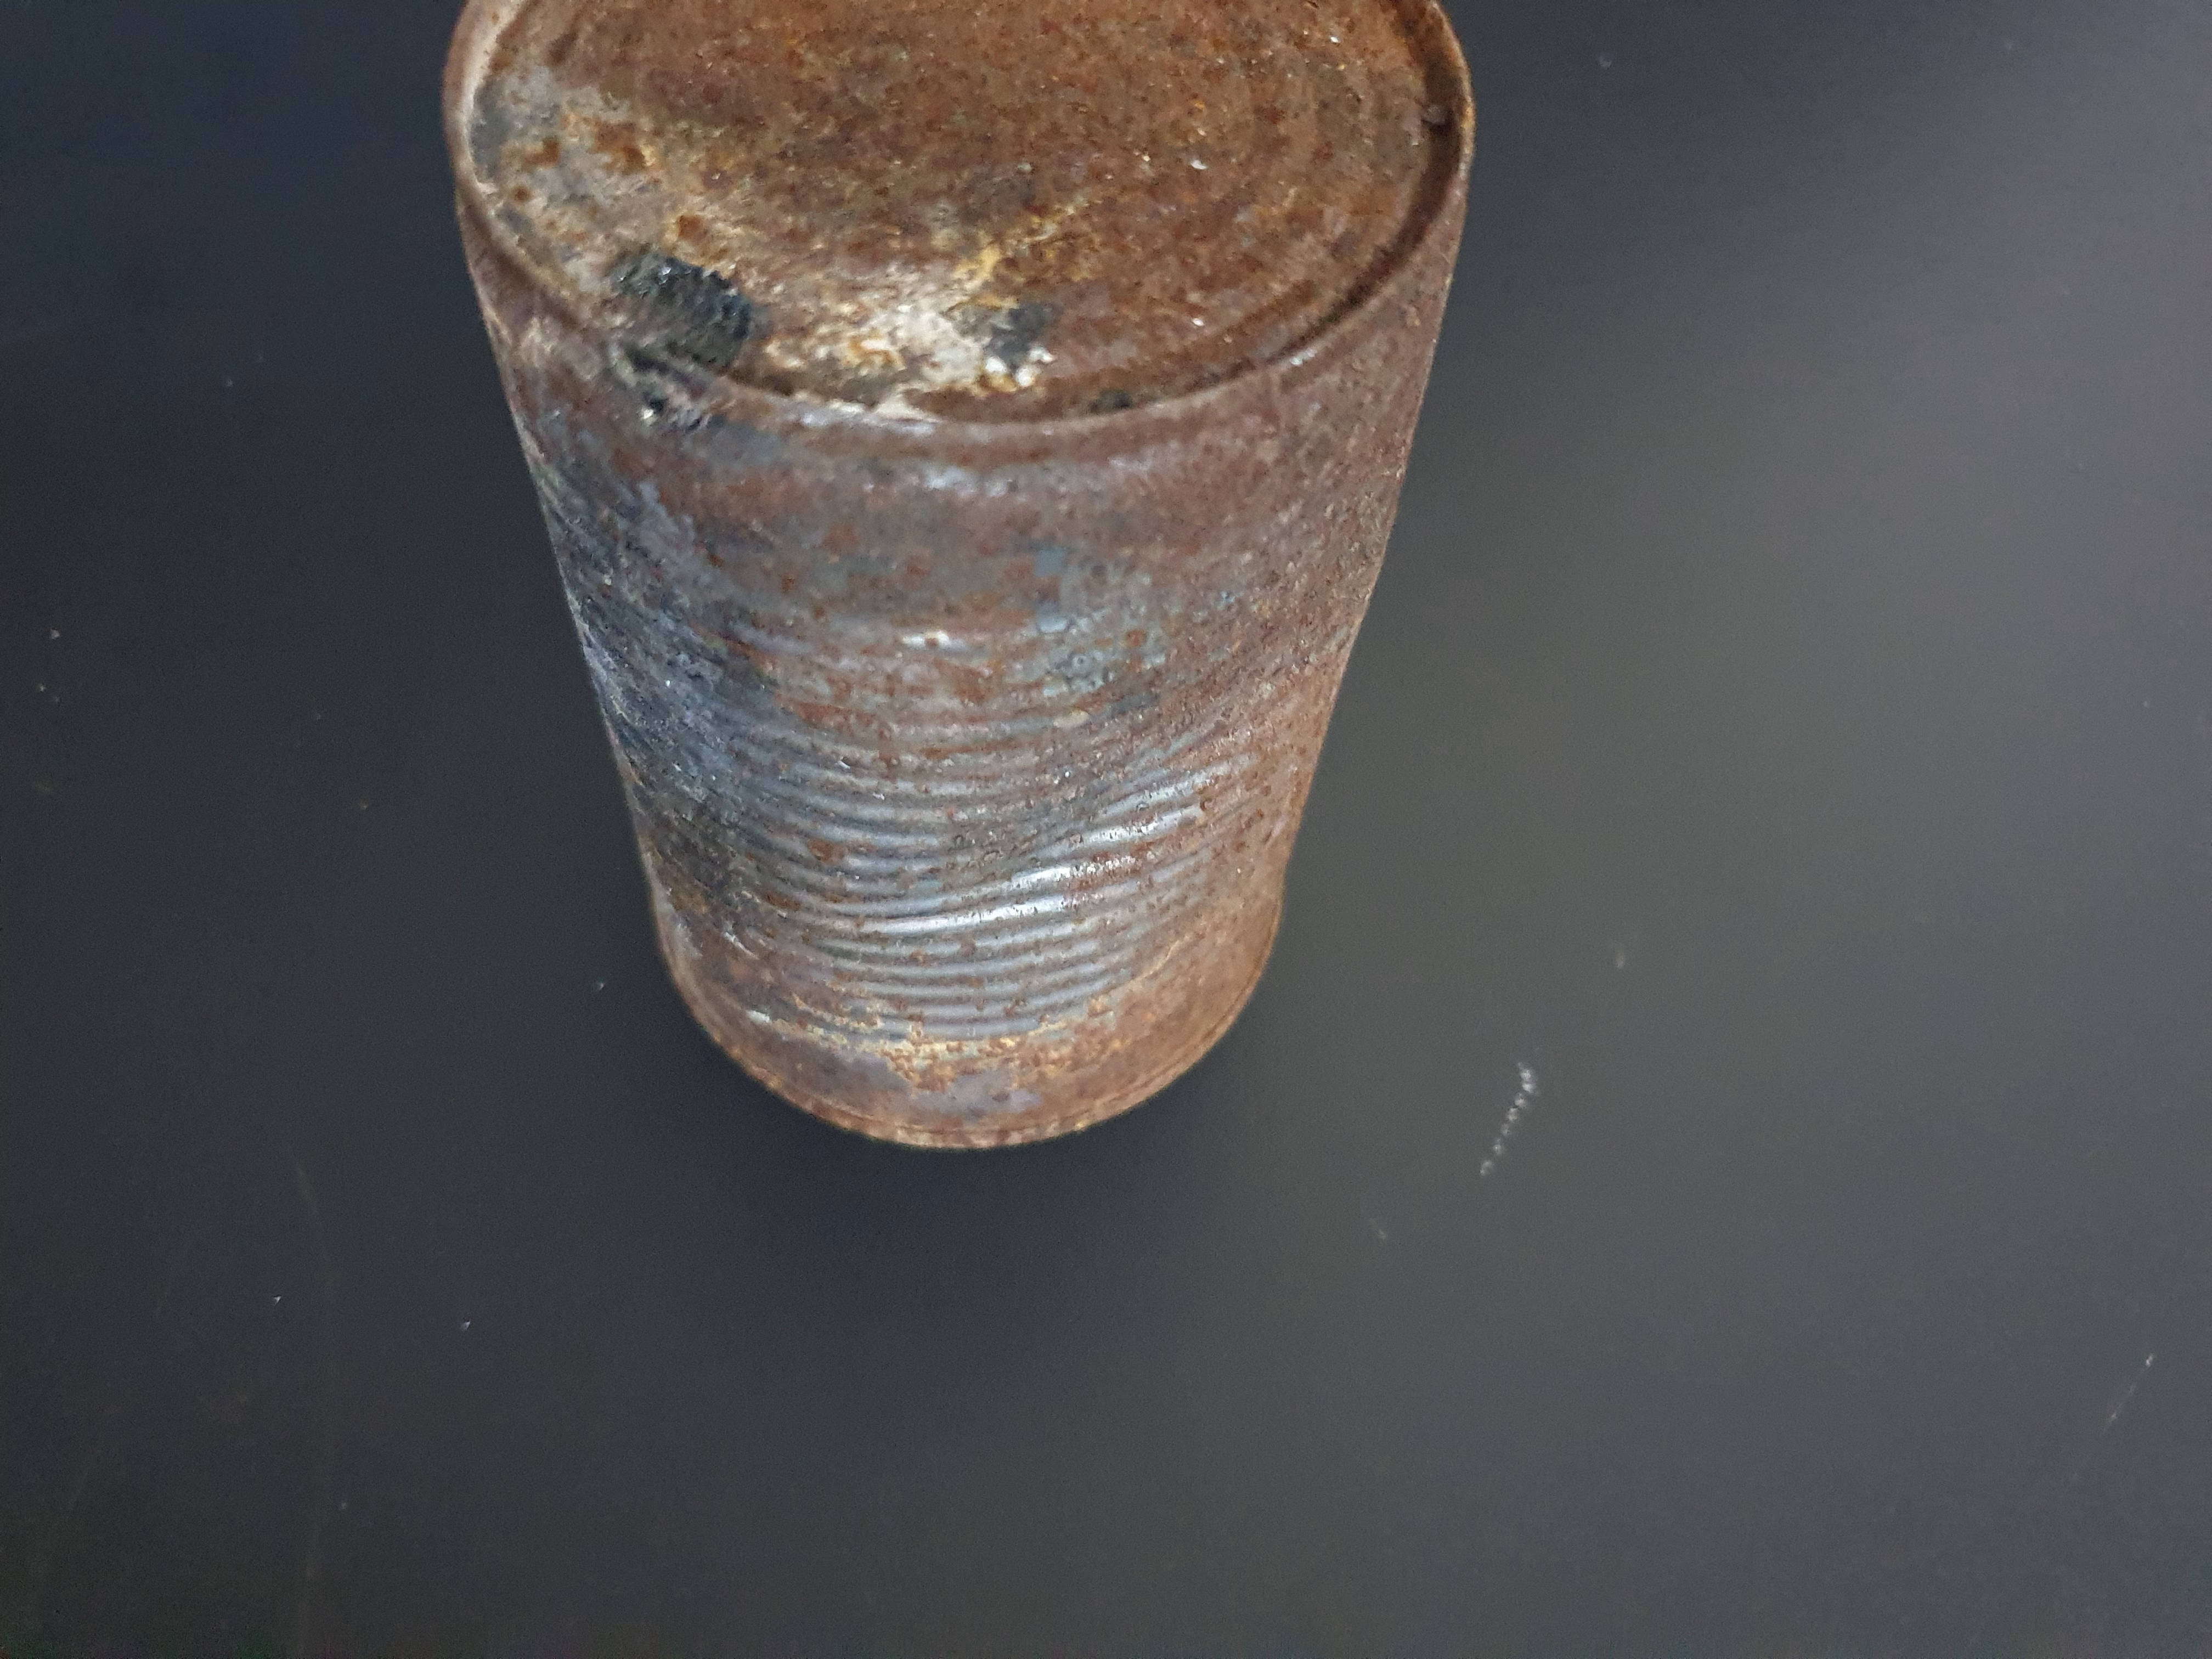metal: (394, 0, 1500, 1176)
